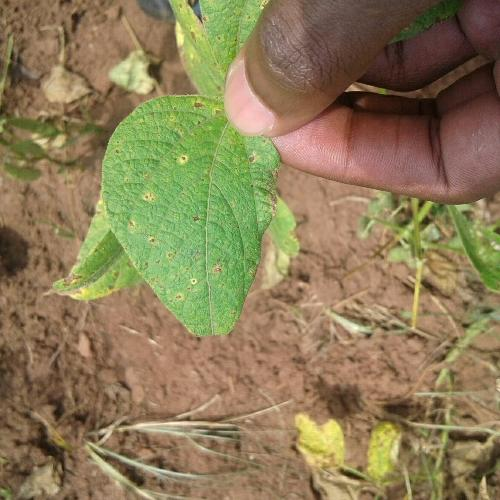hawar: (164, 236, 232, 318), (112, 176, 159, 258), (175, 92, 230, 132), (159, 145, 200, 171)
